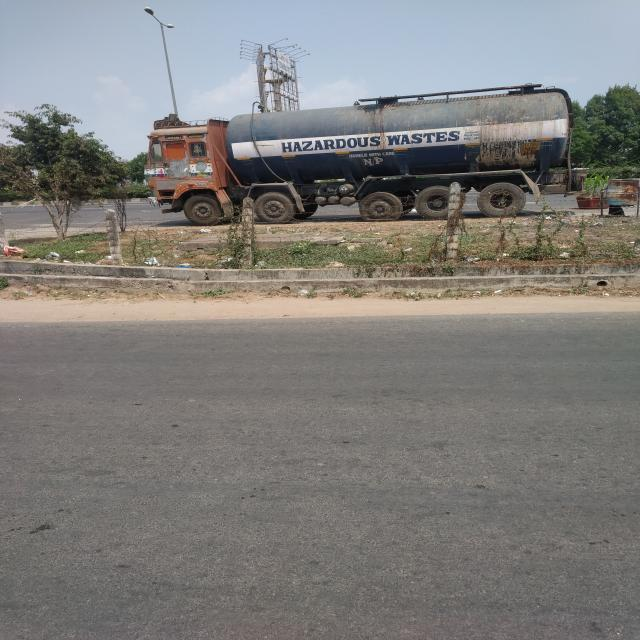Truck: (124, 71, 595, 235)
